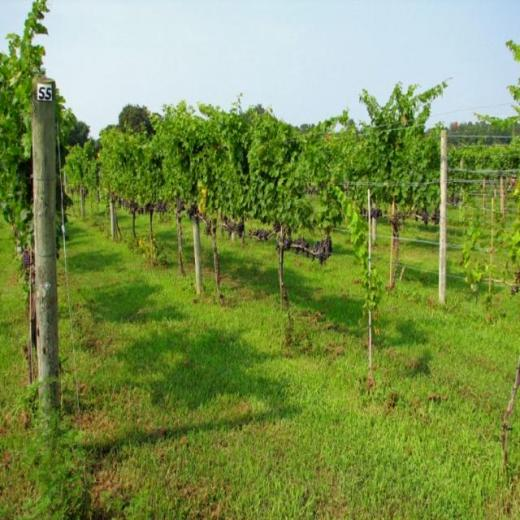Orange: (285, 226, 333, 266), (219, 212, 246, 236), (248, 228, 270, 239), (369, 207, 383, 220), (422, 207, 430, 227), (433, 207, 441, 224), (272, 223, 280, 233)
